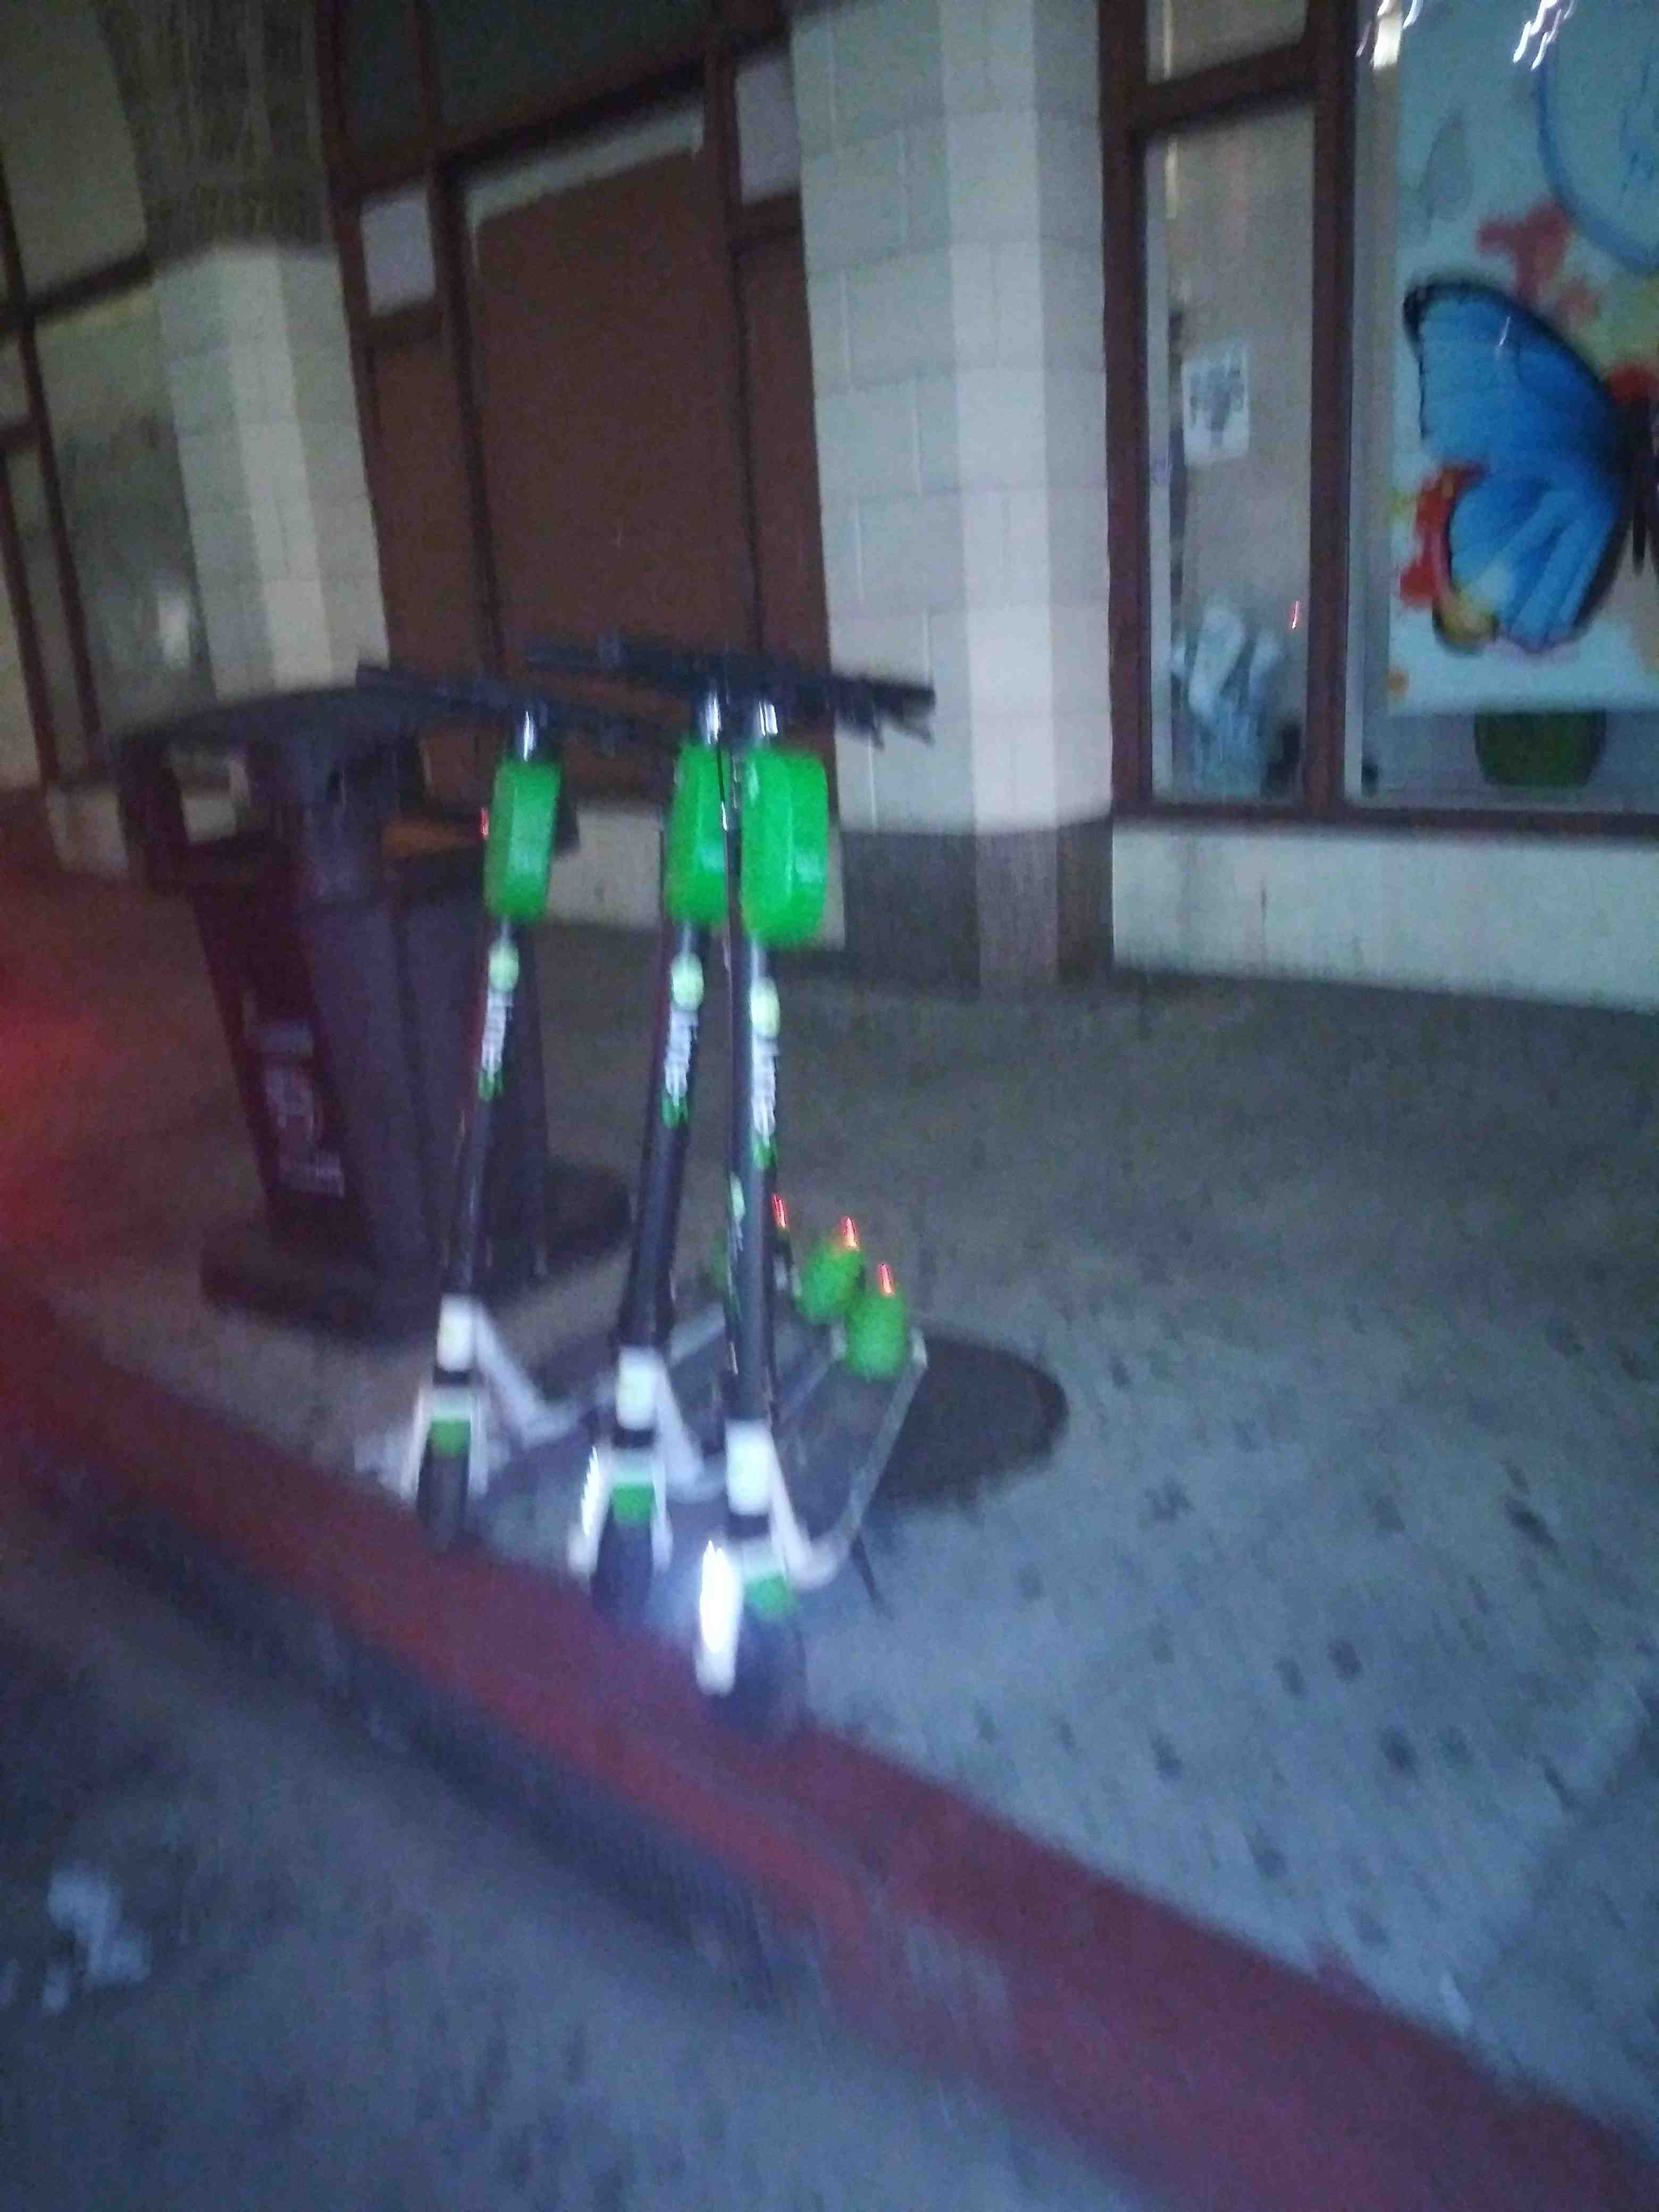too close: (505, 1451, 708, 1888), (298, 1383, 537, 1719), (669, 1573, 896, 1878)
